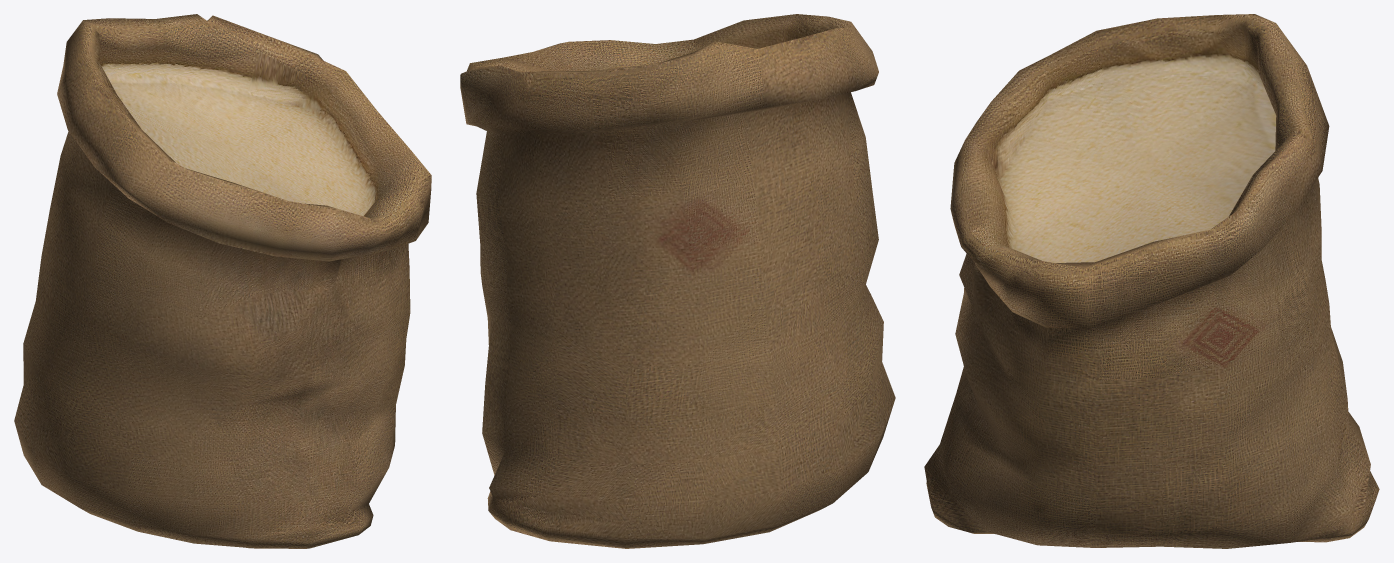
File: rice-sack.glb
3 renders of one model, left to right at view 1: azimuth 30°, elevation 25°; view 2: azimuth 150°, elevation 25°; view 3: azimuth 270°, elevation 25°, orthographic. The views are drawn at different scales.
Parts seen in each view (by area): view 1: tripo_node_832519fe-23f5-4392-a51f-773818bdab8c; view 2: tripo_node_832519fe-23f5-4392-a51f-773818bdab8c; view 3: tripo_node_832519fe-23f5-4392-a51f-773818bdab8c.
Boxes of the visible parts, left/top/right/bottom form: tripo_node_832519fe-23f5-4392-a51f-773818bdab8c: left=14, top=14, right=431, bottom=548; tripo_node_832519fe-23f5-4392-a51f-773818bdab8c: left=460, top=14, right=895, bottom=548; tripo_node_832519fe-23f5-4392-a51f-773818bdab8c: left=924, top=14, right=1379, bottom=548.
Size of the model in its own units: 0.8301 by 0.998 by 0.9199.
1 material, 1 textured.
